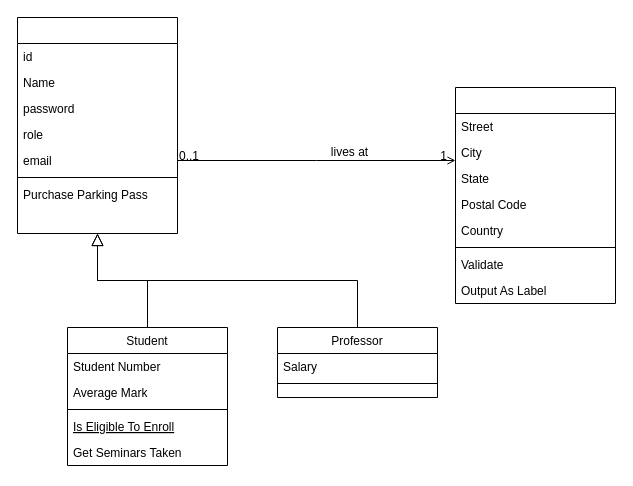
Image size: 633x486. Some labels were removed from this diagram. Each missing label, with the box of its shape:
Address: (454, 86, 616, 304)
User: (16, 16, 178, 234)
